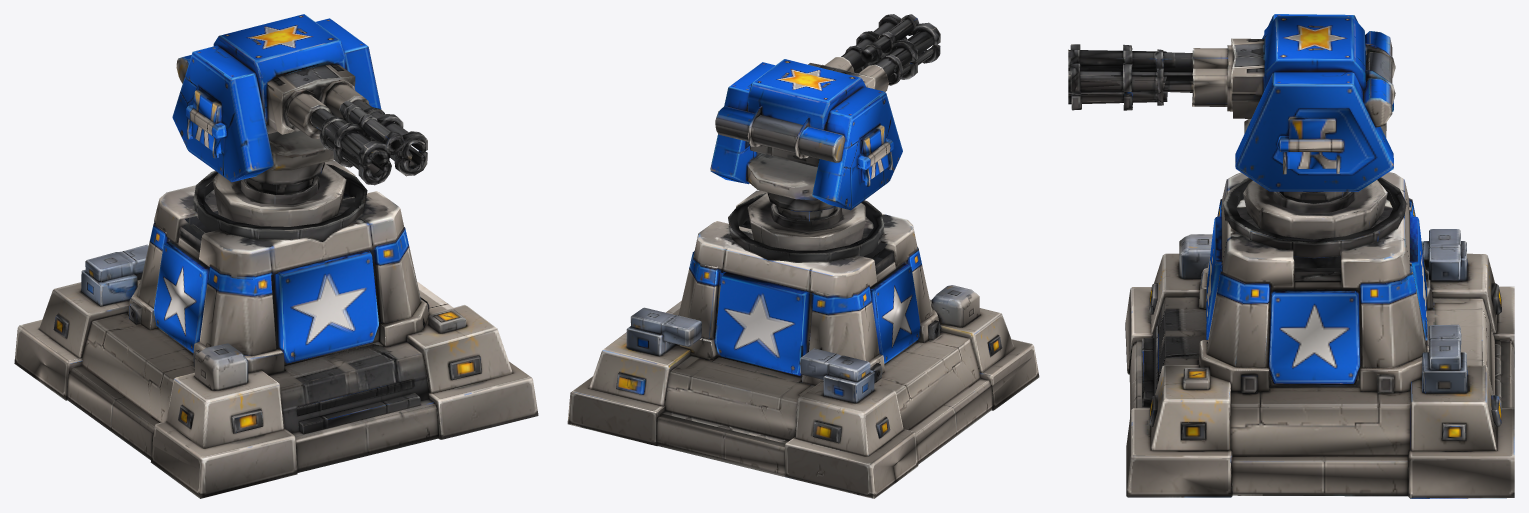
File: Tower.fbx
The picture shows the model from 3 angles, left to right: view 1: azimuth 30°, elevation 25°; view 2: azimuth 150°, elevation 25°; view 3: azimuth 270°, elevation 25°; orthographic projection. The views are drawn at different scales.
Parts seen in each view (by area): view 1: Base, Turret; view 2: Base, Turret; view 3: Base, Turret.
Boxes of the visible parts, x1,y1,x2,y2 form: Base: [14, 160, 538, 498]; Turret: [172, 14, 427, 185]; Base: [567, 190, 1039, 498]; Turret: [710, 14, 940, 210]; Base: [1125, 172, 1514, 498]; Turret: [1068, 14, 1395, 191].
Bounding box in the file's own units: 0.9272 × 0.9253 × 1.
Materials: 1 (1 with a texture image).
